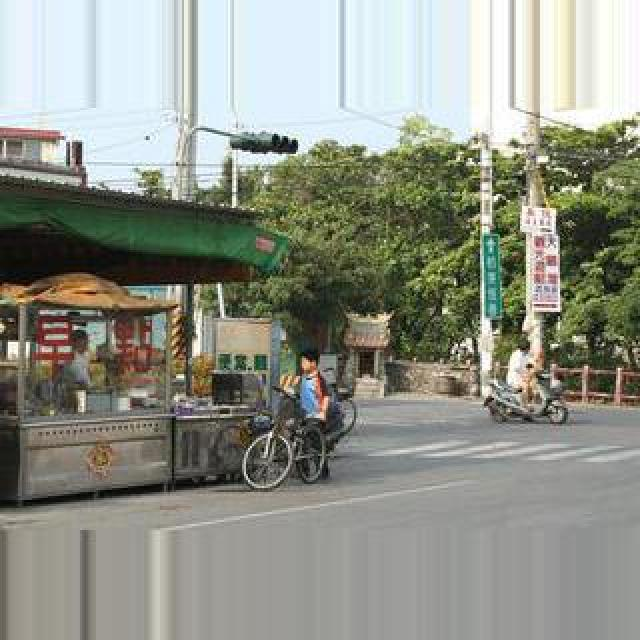Emergency Vehicles-Bike: (482, 368, 572, 424)
MC-Bike: (288, 352, 332, 470), (58, 328, 96, 414), (506, 340, 540, 412)
Person: (242, 388, 330, 490), (328, 384, 358, 438)
